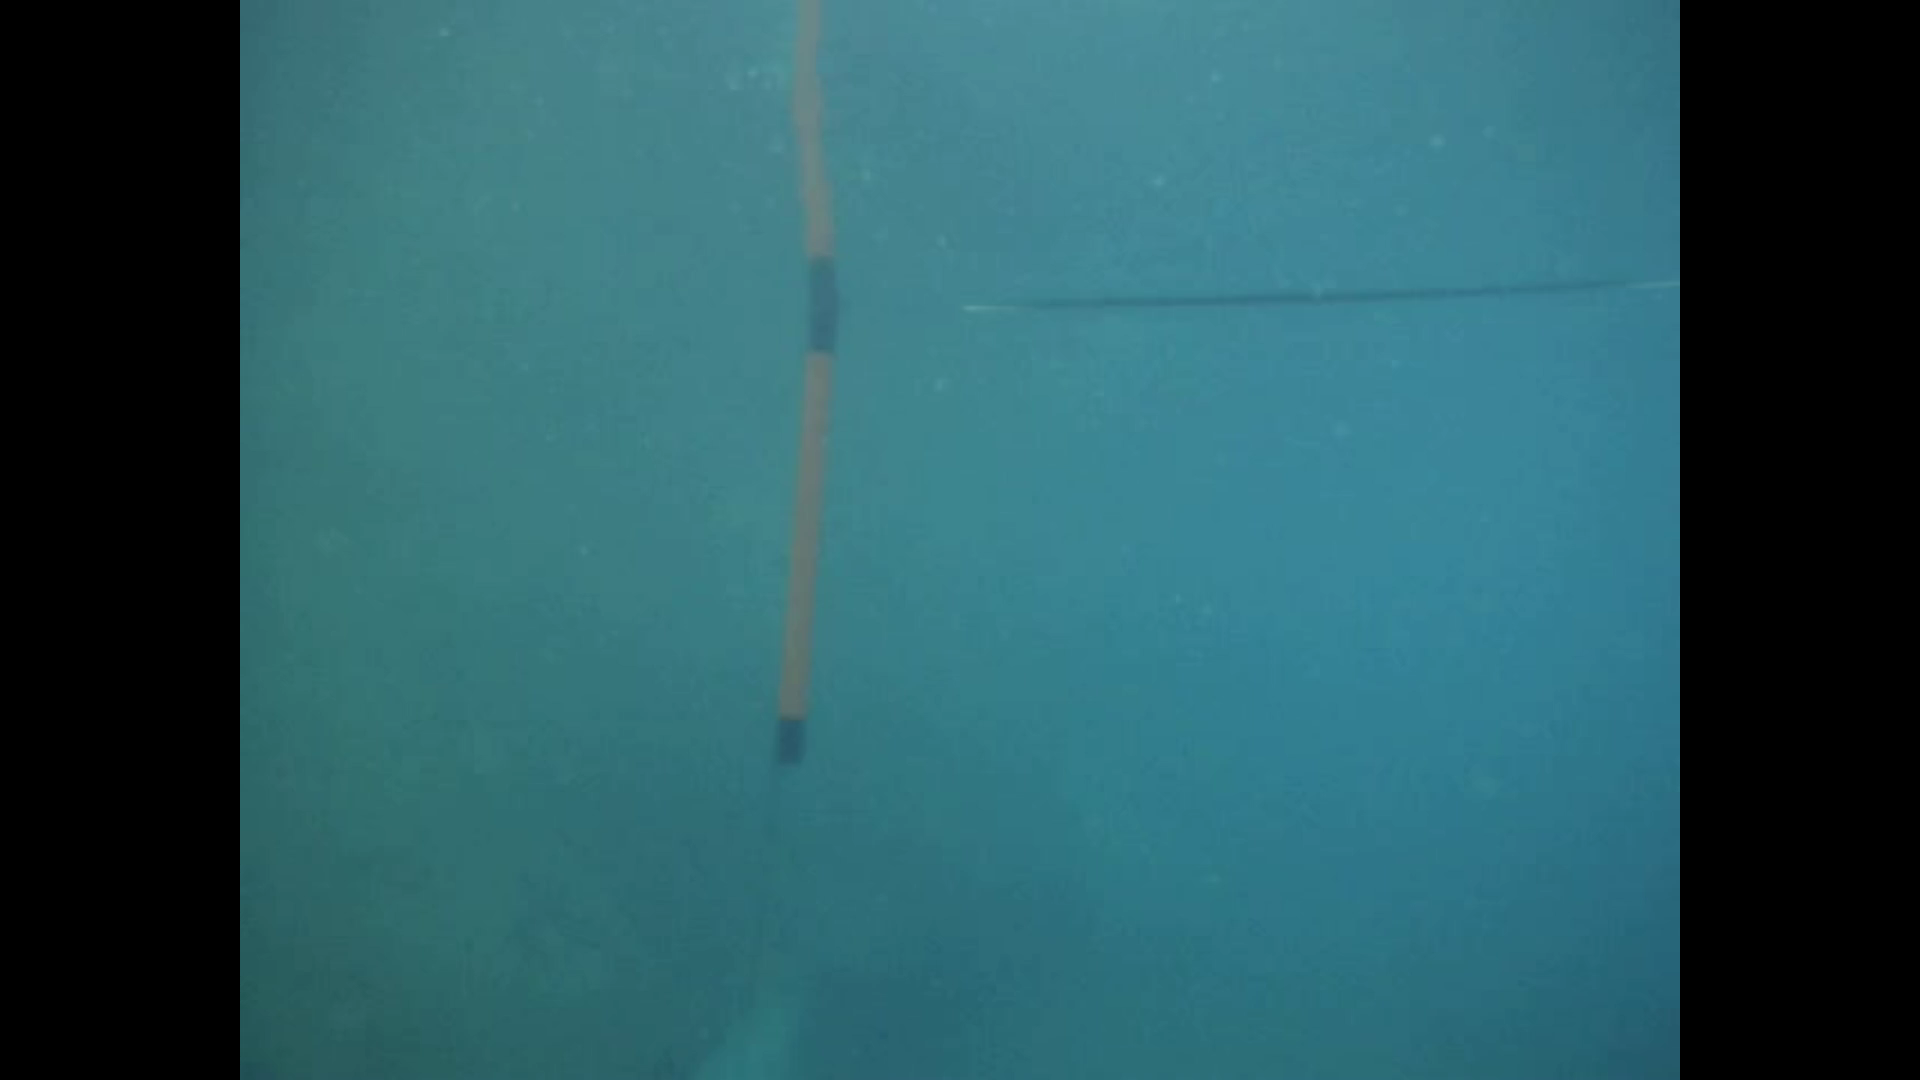gate: (774, 277, 1681, 771)
